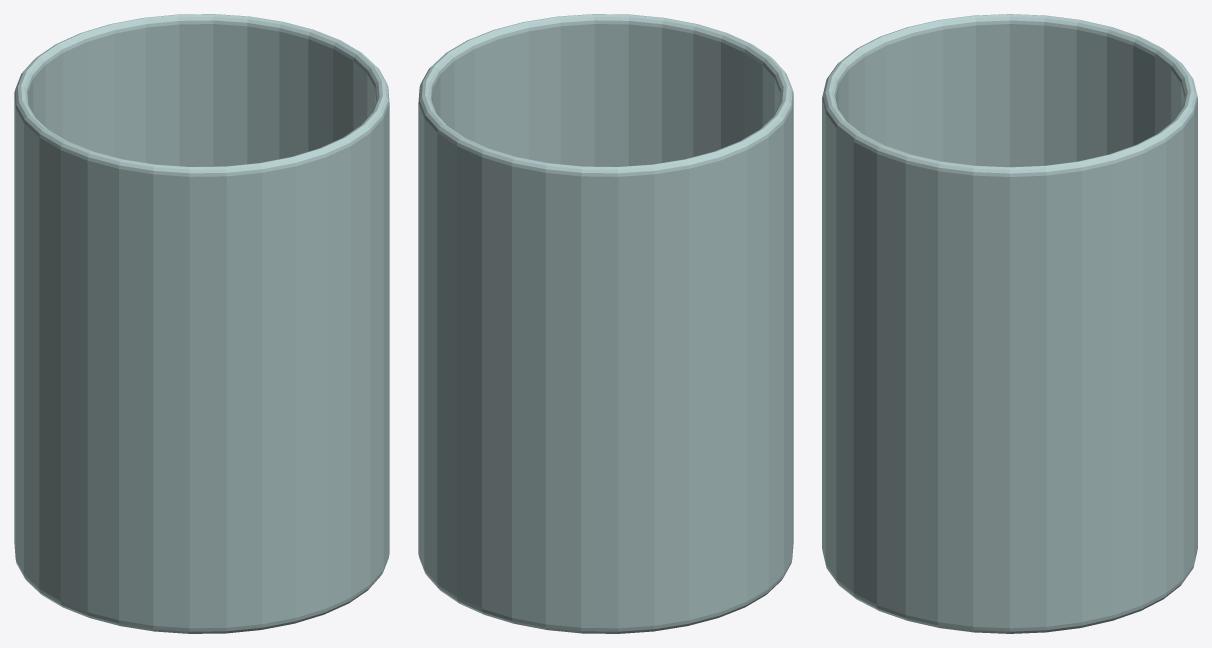
File: sweethome3d-katorlegaz-glass.glb
The picture shows the model from 3 angles, left to right: view 1: azimuth 30°, elevation 25°; view 2: azimuth 150°, elevation 25°; view 3: azimuth 270°, elevation 25°; orthographic projection.
Visible parts, largest first — view 1: 12_oz_glass; view 2: 12_oz_glass; view 3: 12_oz_glass.
Boxes of the visible parts, x1=… form: 12_oz_glass: x1=14, y1=14, x2=389, y2=633; 12_oz_glass: x1=418, y1=14, x2=793, y2=633; 12_oz_glass: x1=822, y1=14, x2=1197, y2=633.
Bounding box in the file's own units: 0.5268 × 0.7239 × 0.5268.
